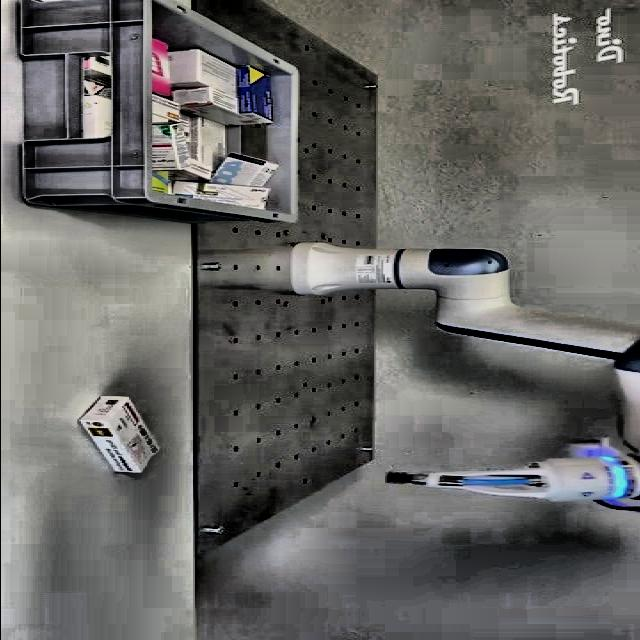robot: (288, 241, 640, 514)
